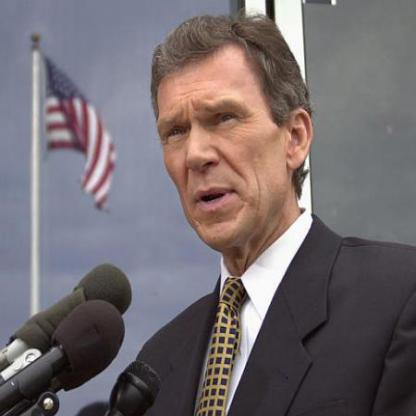face: (151, 21, 287, 256)
